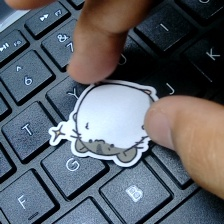mouse: (41, 76, 172, 170)
